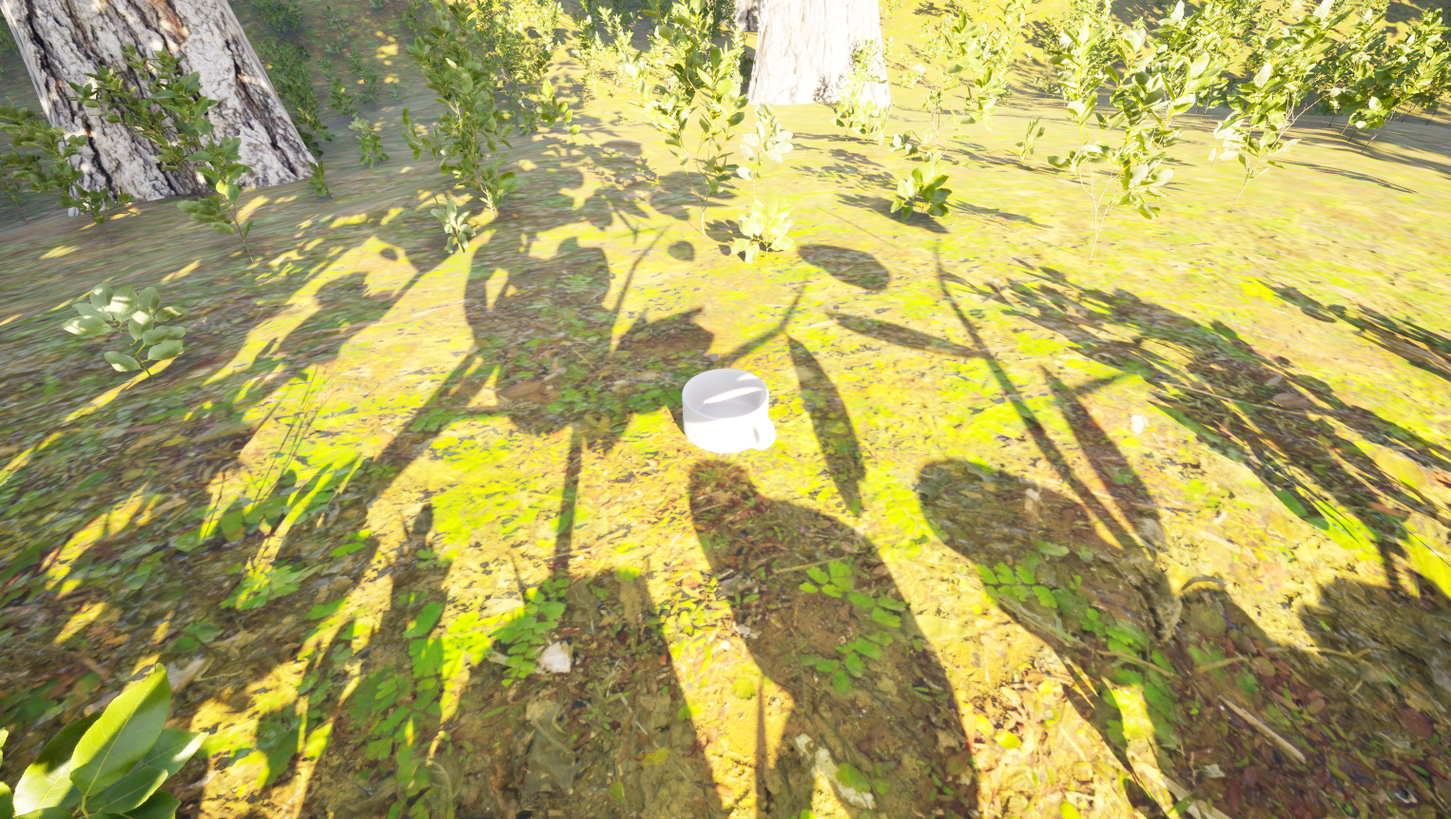Teacup: (678, 365, 781, 467)
